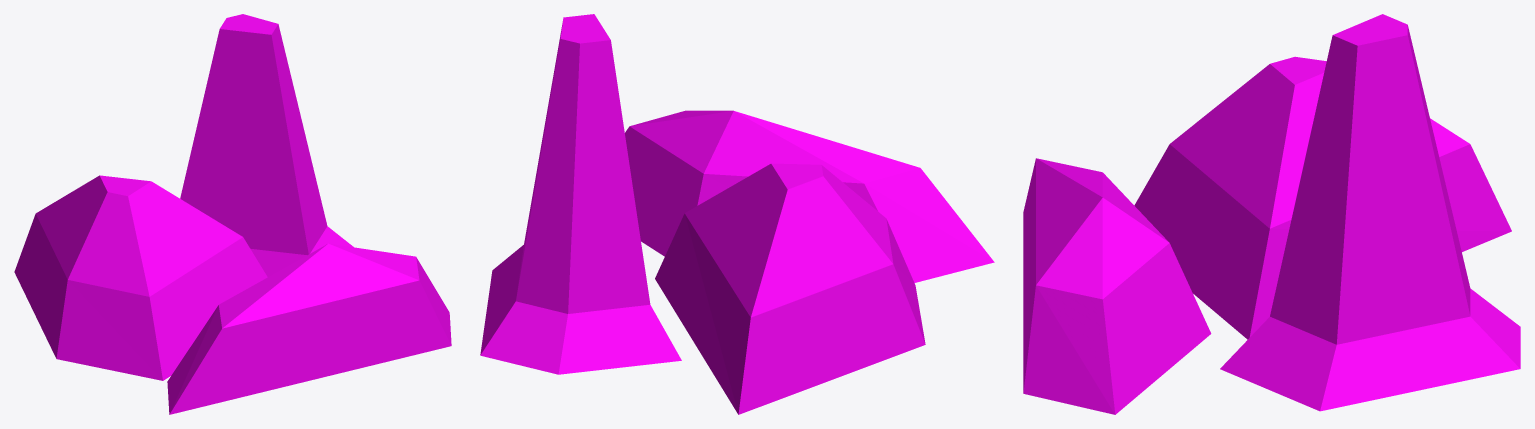
The model's file is gemrock.obj.
3 renders of one model, left to right at view 1: azimuth 30°, elevation 25°; view 2: azimuth 150°, elevation 25°; view 3: azimuth 270°, elevation 25°, orthographic. The views are drawn at different scales.
Parts seen in each view (by area): view 1: gemrock_back; view 2: gemrock_back; view 3: gemrock_back.
Boxes of the visible parts, x1,y1,x2,y2 form: gemrock_back: [14, 14, 451, 414]; gemrock_back: [480, 14, 994, 414]; gemrock_back: [1023, 14, 1520, 414].
Bounding box in the file's own units: 1.25 × 0.84 × 1.19.
